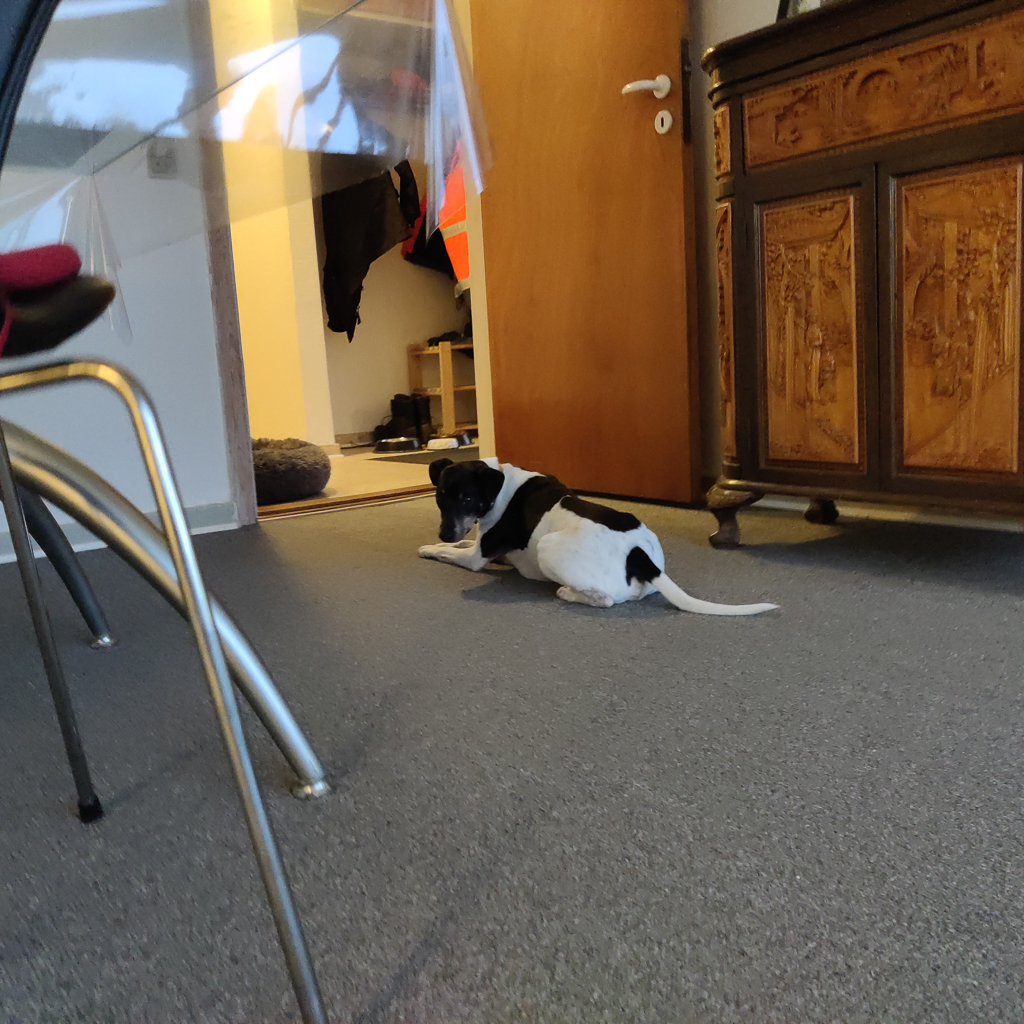Dog: (406, 434, 790, 626)
